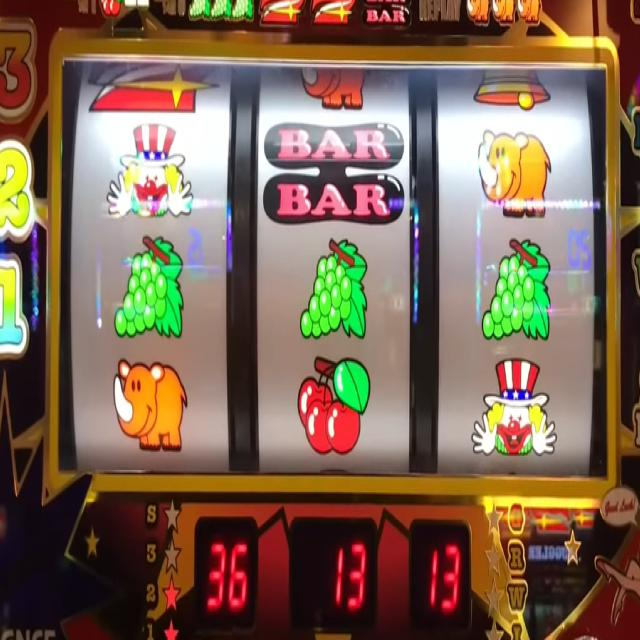bar: (262, 118, 409, 228), (364, 0, 411, 29)
bell: (473, 64, 551, 108)
cherry: (297, 356, 370, 455), (100, 0, 123, 16)
clown: (105, 120, 194, 219), (472, 360, 556, 459)
display: (59, 55, 609, 481)
elephant: (113, 360, 188, 454), (478, 129, 550, 217), (298, 66, 370, 110), (517, 0, 541, 24), (493, 0, 516, 25), (467, 0, 490, 24)
grape: (112, 232, 185, 341), (481, 239, 552, 343), (301, 235, 367, 340), (208, 0, 232, 24), (231, 0, 254, 24), (187, 0, 210, 21)
z: (88, 64, 218, 114), (311, 0, 354, 27), (258, 0, 305, 24)
